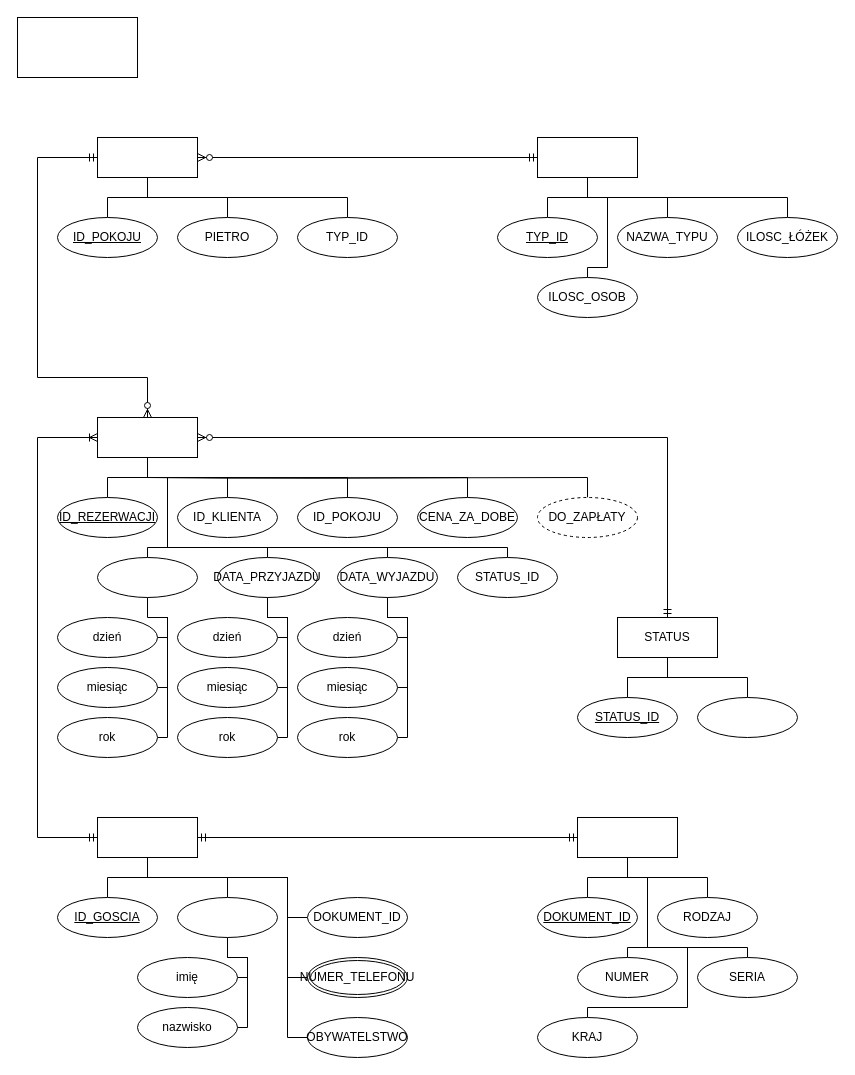
Some shapes in this 855 by 1075 pixel diagram are drawn without their labels. Here are the shapes that lost their labels. From the top down, the centre of each, then its label:
the point at 77,47: JAKUB SZCZODRZYŃSKI 3B3T KLASA 3B3T
the point at 147,157: POKÓJ
the point at 587,157: TYP POKOJU
the point at 147,437: REZERWACJA
the point at 147,577: DATA_REZERWACJI
the point at 747,717: NAZWA_STATUSU
the point at 147,837: GOŚĆ
the point at 627,837: DOKUMENT
the point at 227,917: DANE_OSOBOWE
